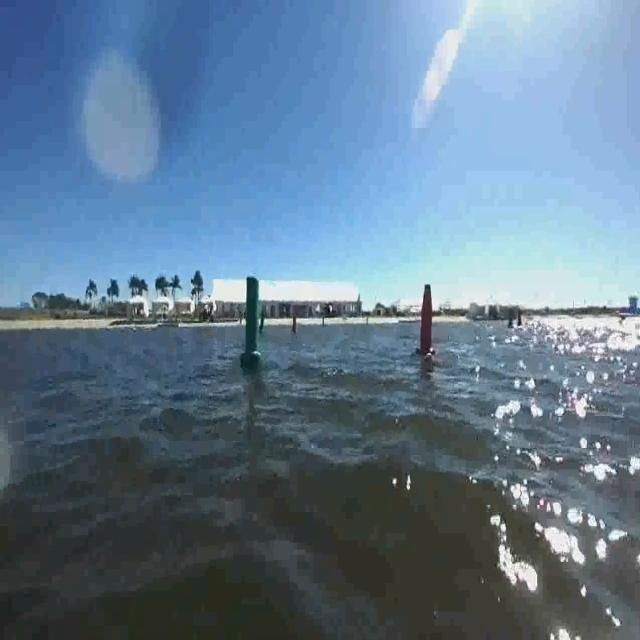green-column-buoy: (241, 274, 264, 367), (321, 314, 326, 328)
red-column-buoy: (416, 281, 437, 360), (291, 315, 298, 335)
